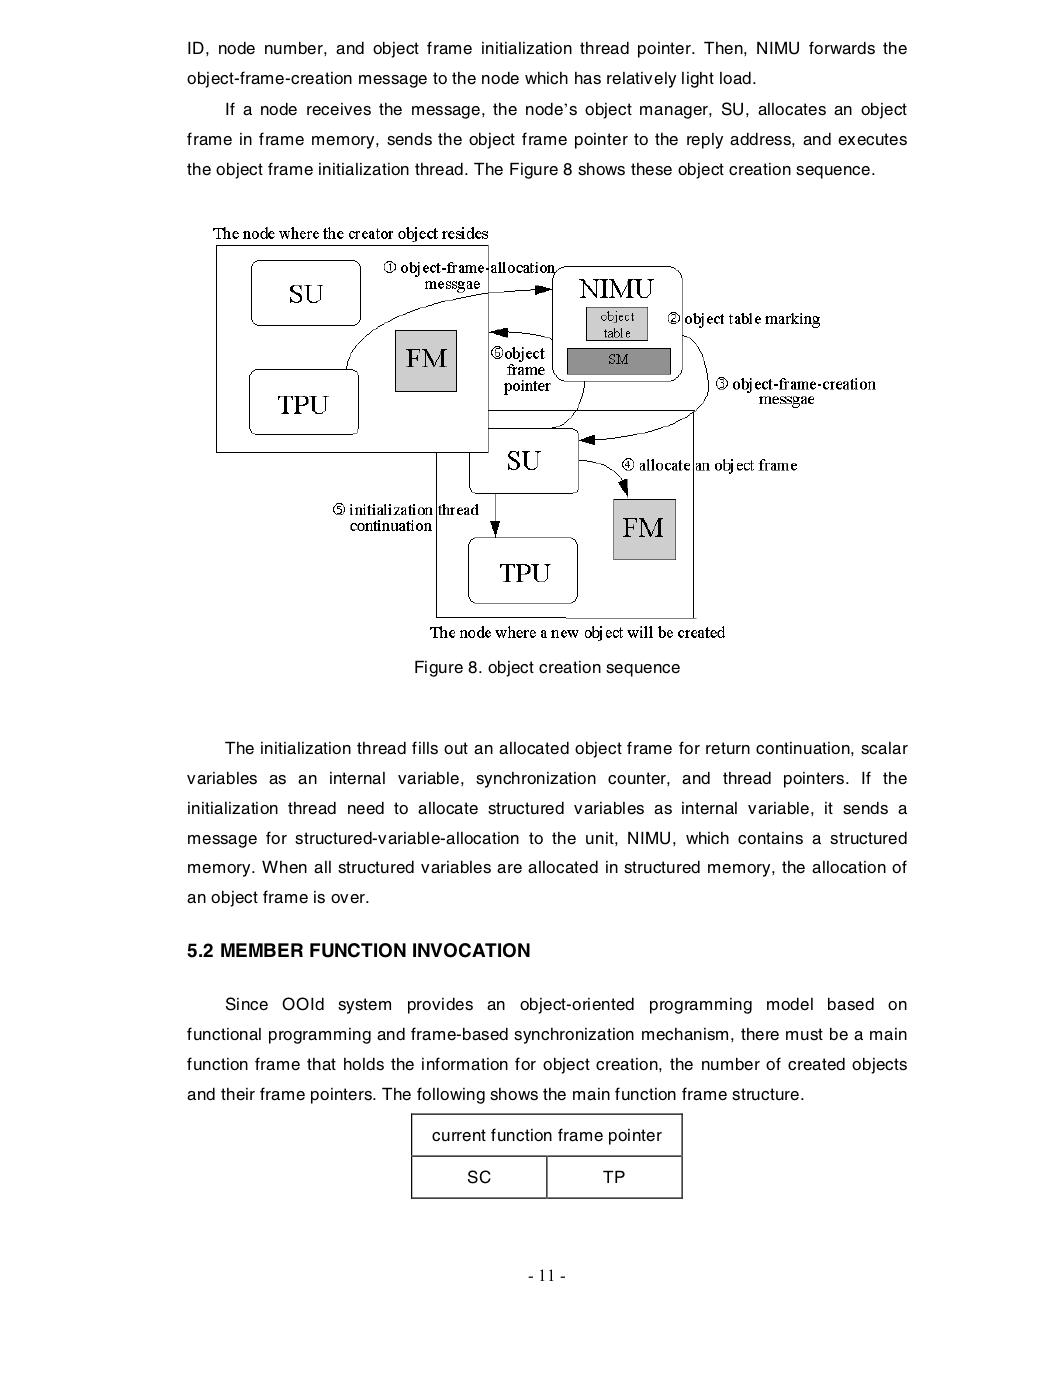Table: (411, 1112, 682, 1199)
figure: (213, 227, 875, 640)
